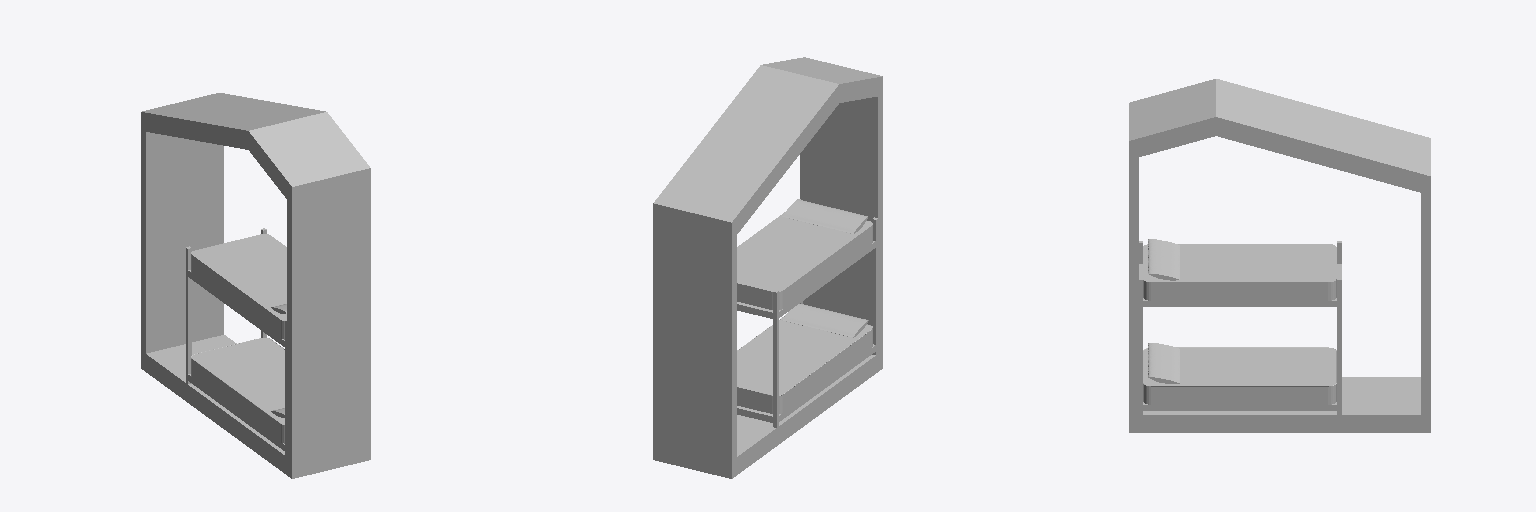
The model's file is 3D_1.3_SIM.obj.
3 renders of one model, left to right at view 1: azimuth 30°, elevation 25°; view 2: azimuth 150°, elevation 25°; view 3: azimuth 270°, elevation 25°, orthographic.
Visible parts, largest first — view 1: 3D_1.3_SIM; view 2: 3D_1.3_SIM; view 3: 3D_1.3_SIM.
Boxes of the visible parts, x1,y1,x2,y2 form: 3D_1.3_SIM: [141, 93, 370, 478]; 3D_1.3_SIM: [653, 57, 882, 478]; 3D_1.3_SIM: [1129, 79, 1430, 432].
Bounding box in the file's own units: 0.9099 × 3.46 × 3.